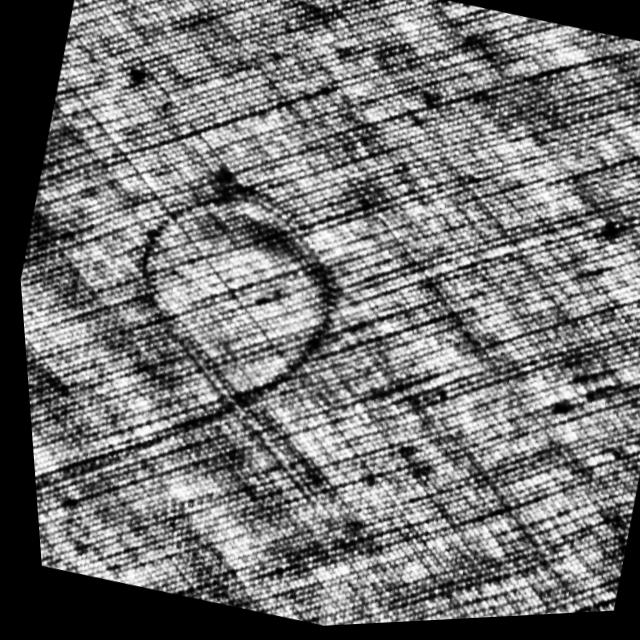Stitch: (45, 118, 421, 439)
